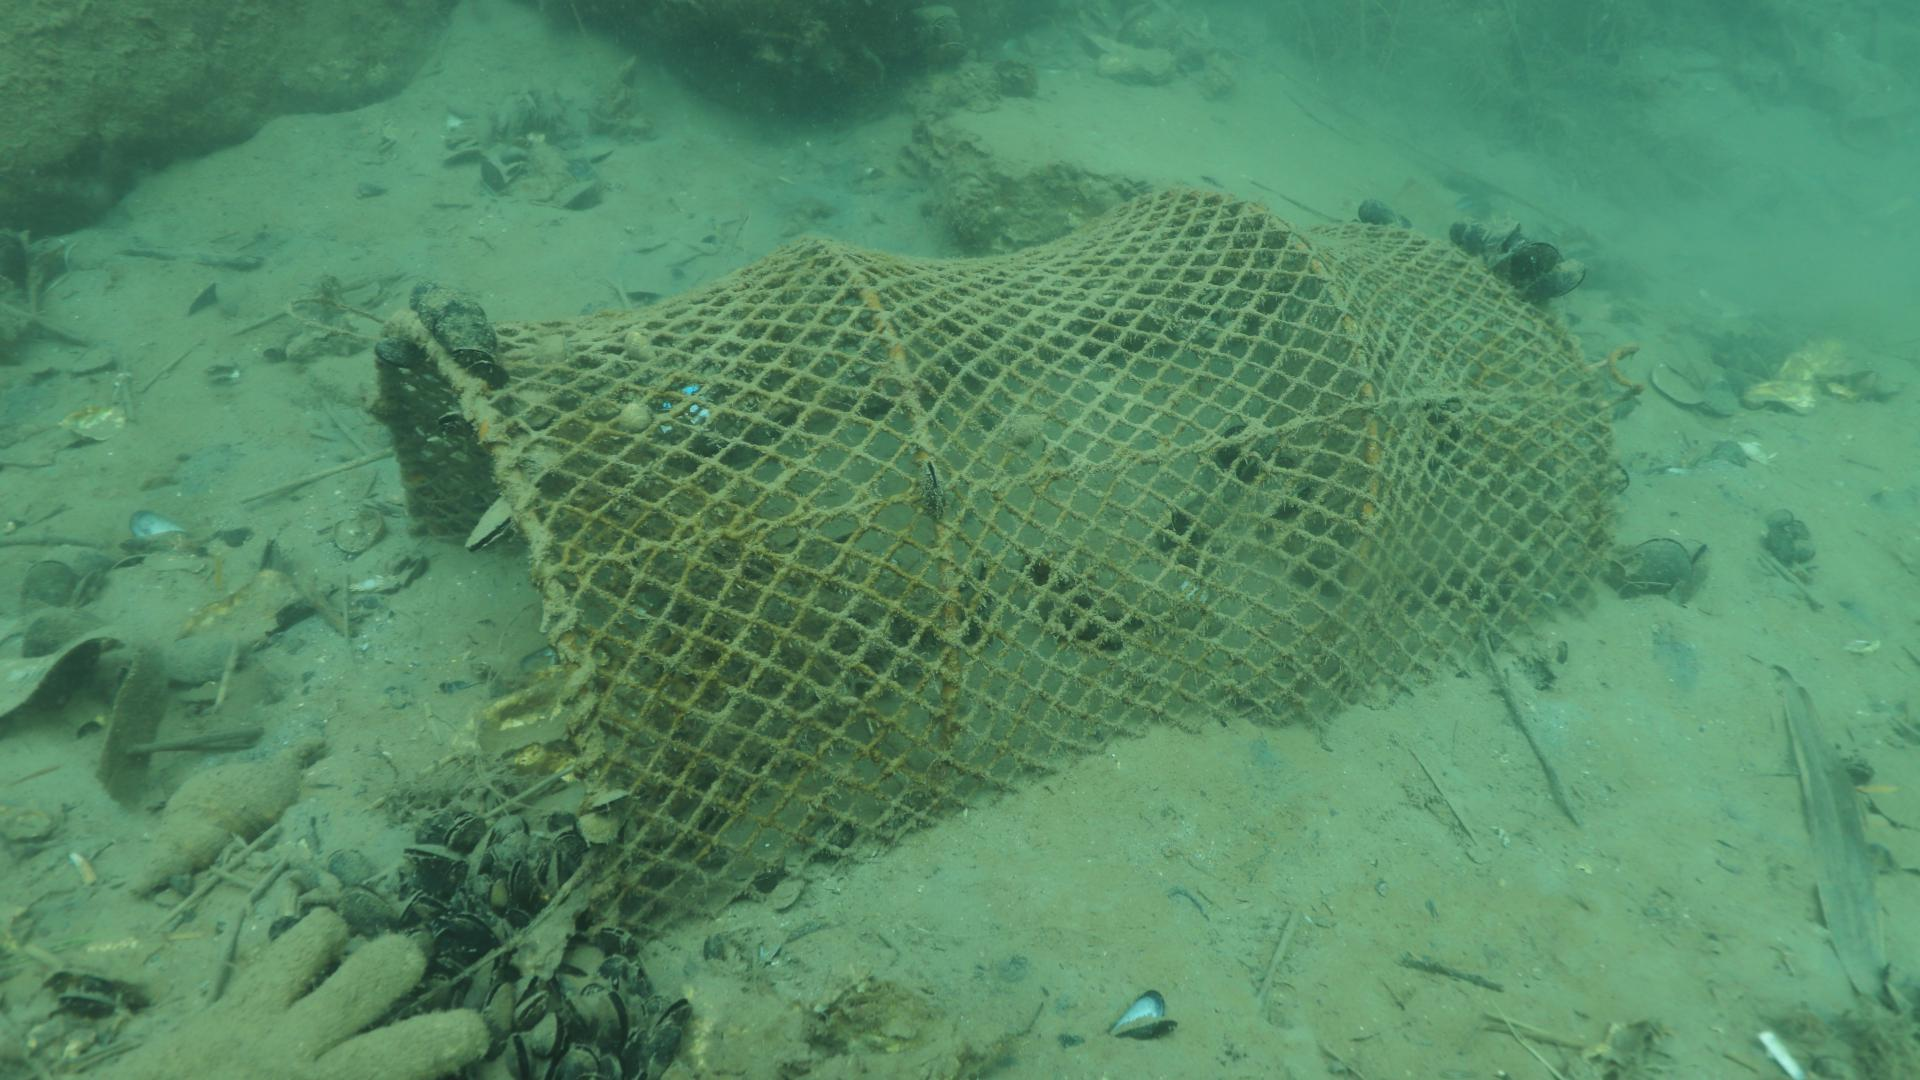spring fish trap: (371, 182, 1614, 952)
